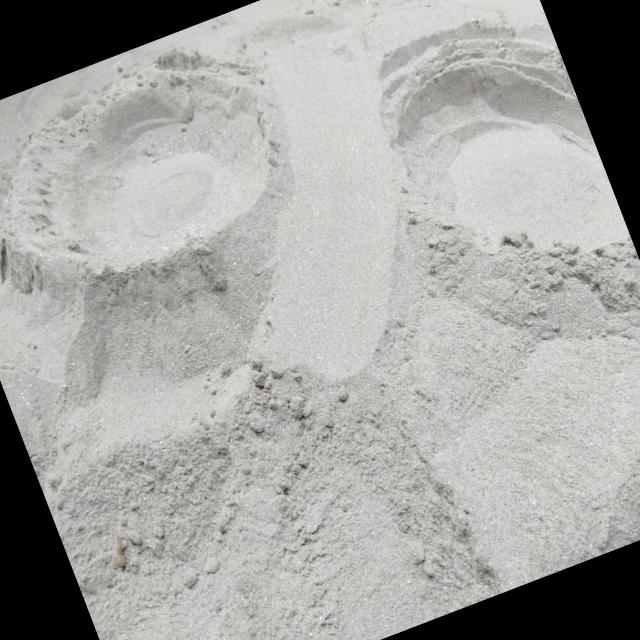C20: (378, 25, 629, 250), (34, 57, 283, 266)
